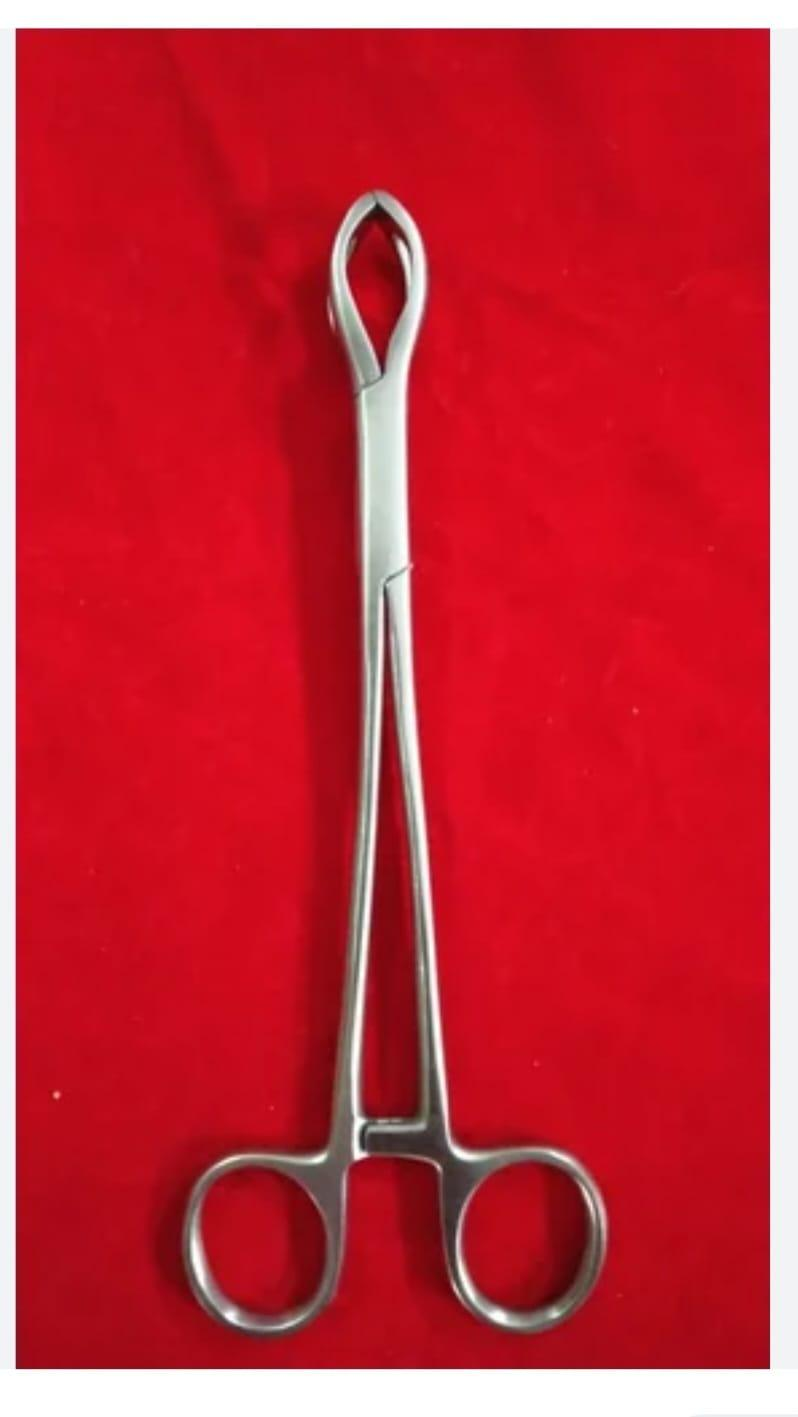Lane Tissue Forceps: (170, 182, 622, 1344)
